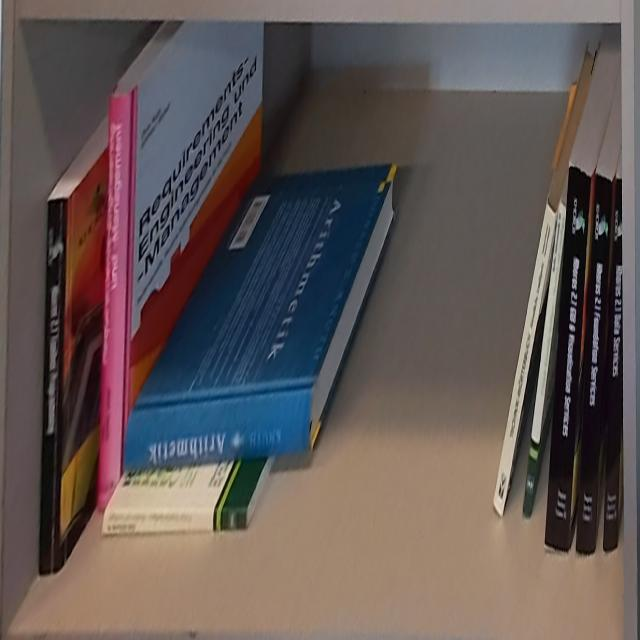Book Spine: (493, 201, 557, 517), (544, 163, 592, 553), (124, 392, 313, 470), (97, 92, 132, 509), (521, 202, 567, 517), (575, 174, 612, 558), (38, 193, 69, 575), (602, 175, 623, 553), (100, 511, 247, 537)
